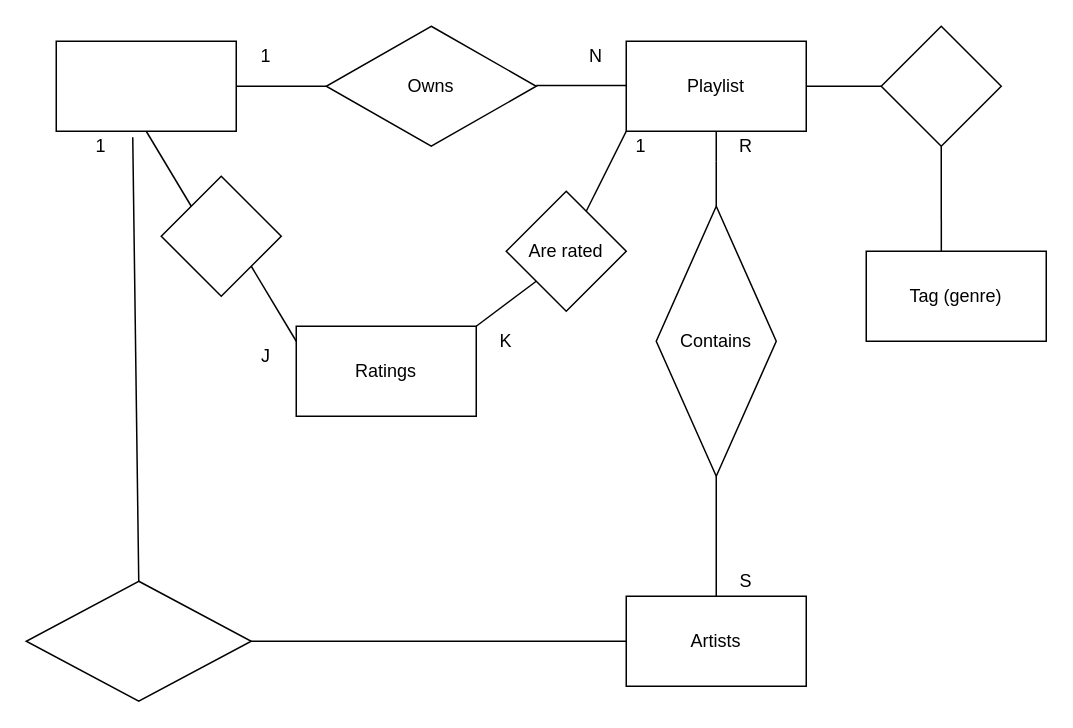
This 1073x728 diagram has some shape labels left out. The centre of each missing label's shape, as x and y in pixels:
Is part of: point 940,85
Likes: point 138,640
Submits: point 220,235
User: point 145,85
